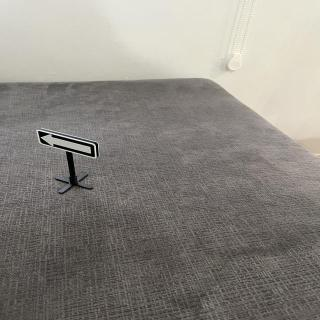sign_oneway_left: (37, 128, 100, 161)
